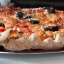pizza: (1, 7, 63, 49)
